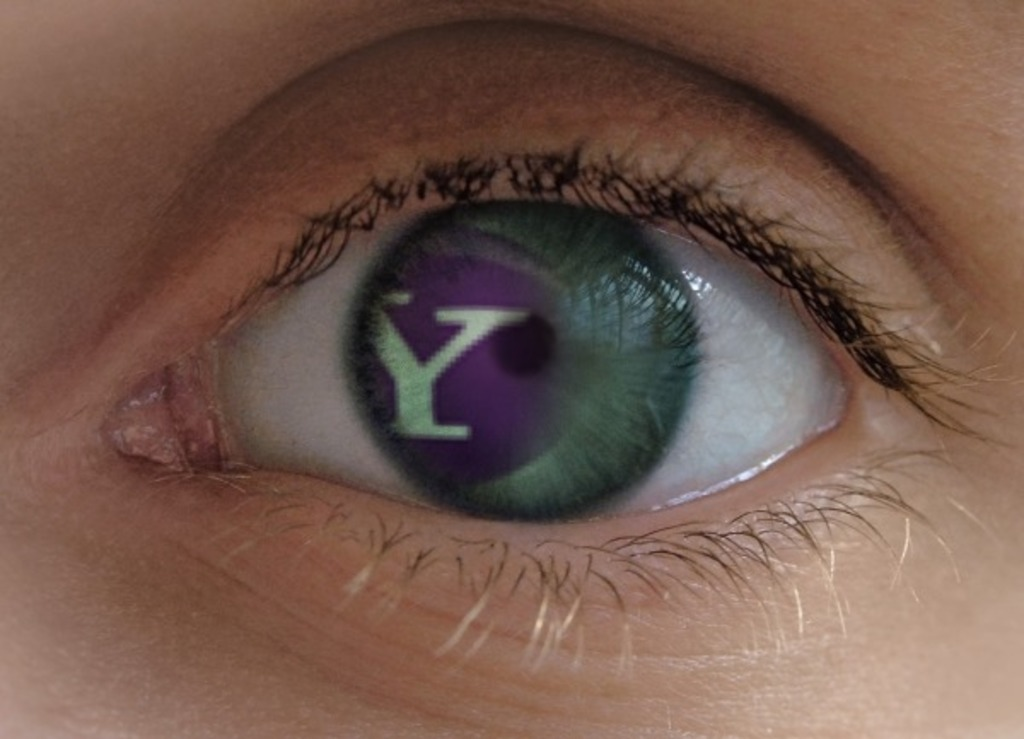Person: (0, 0, 1023, 738)
